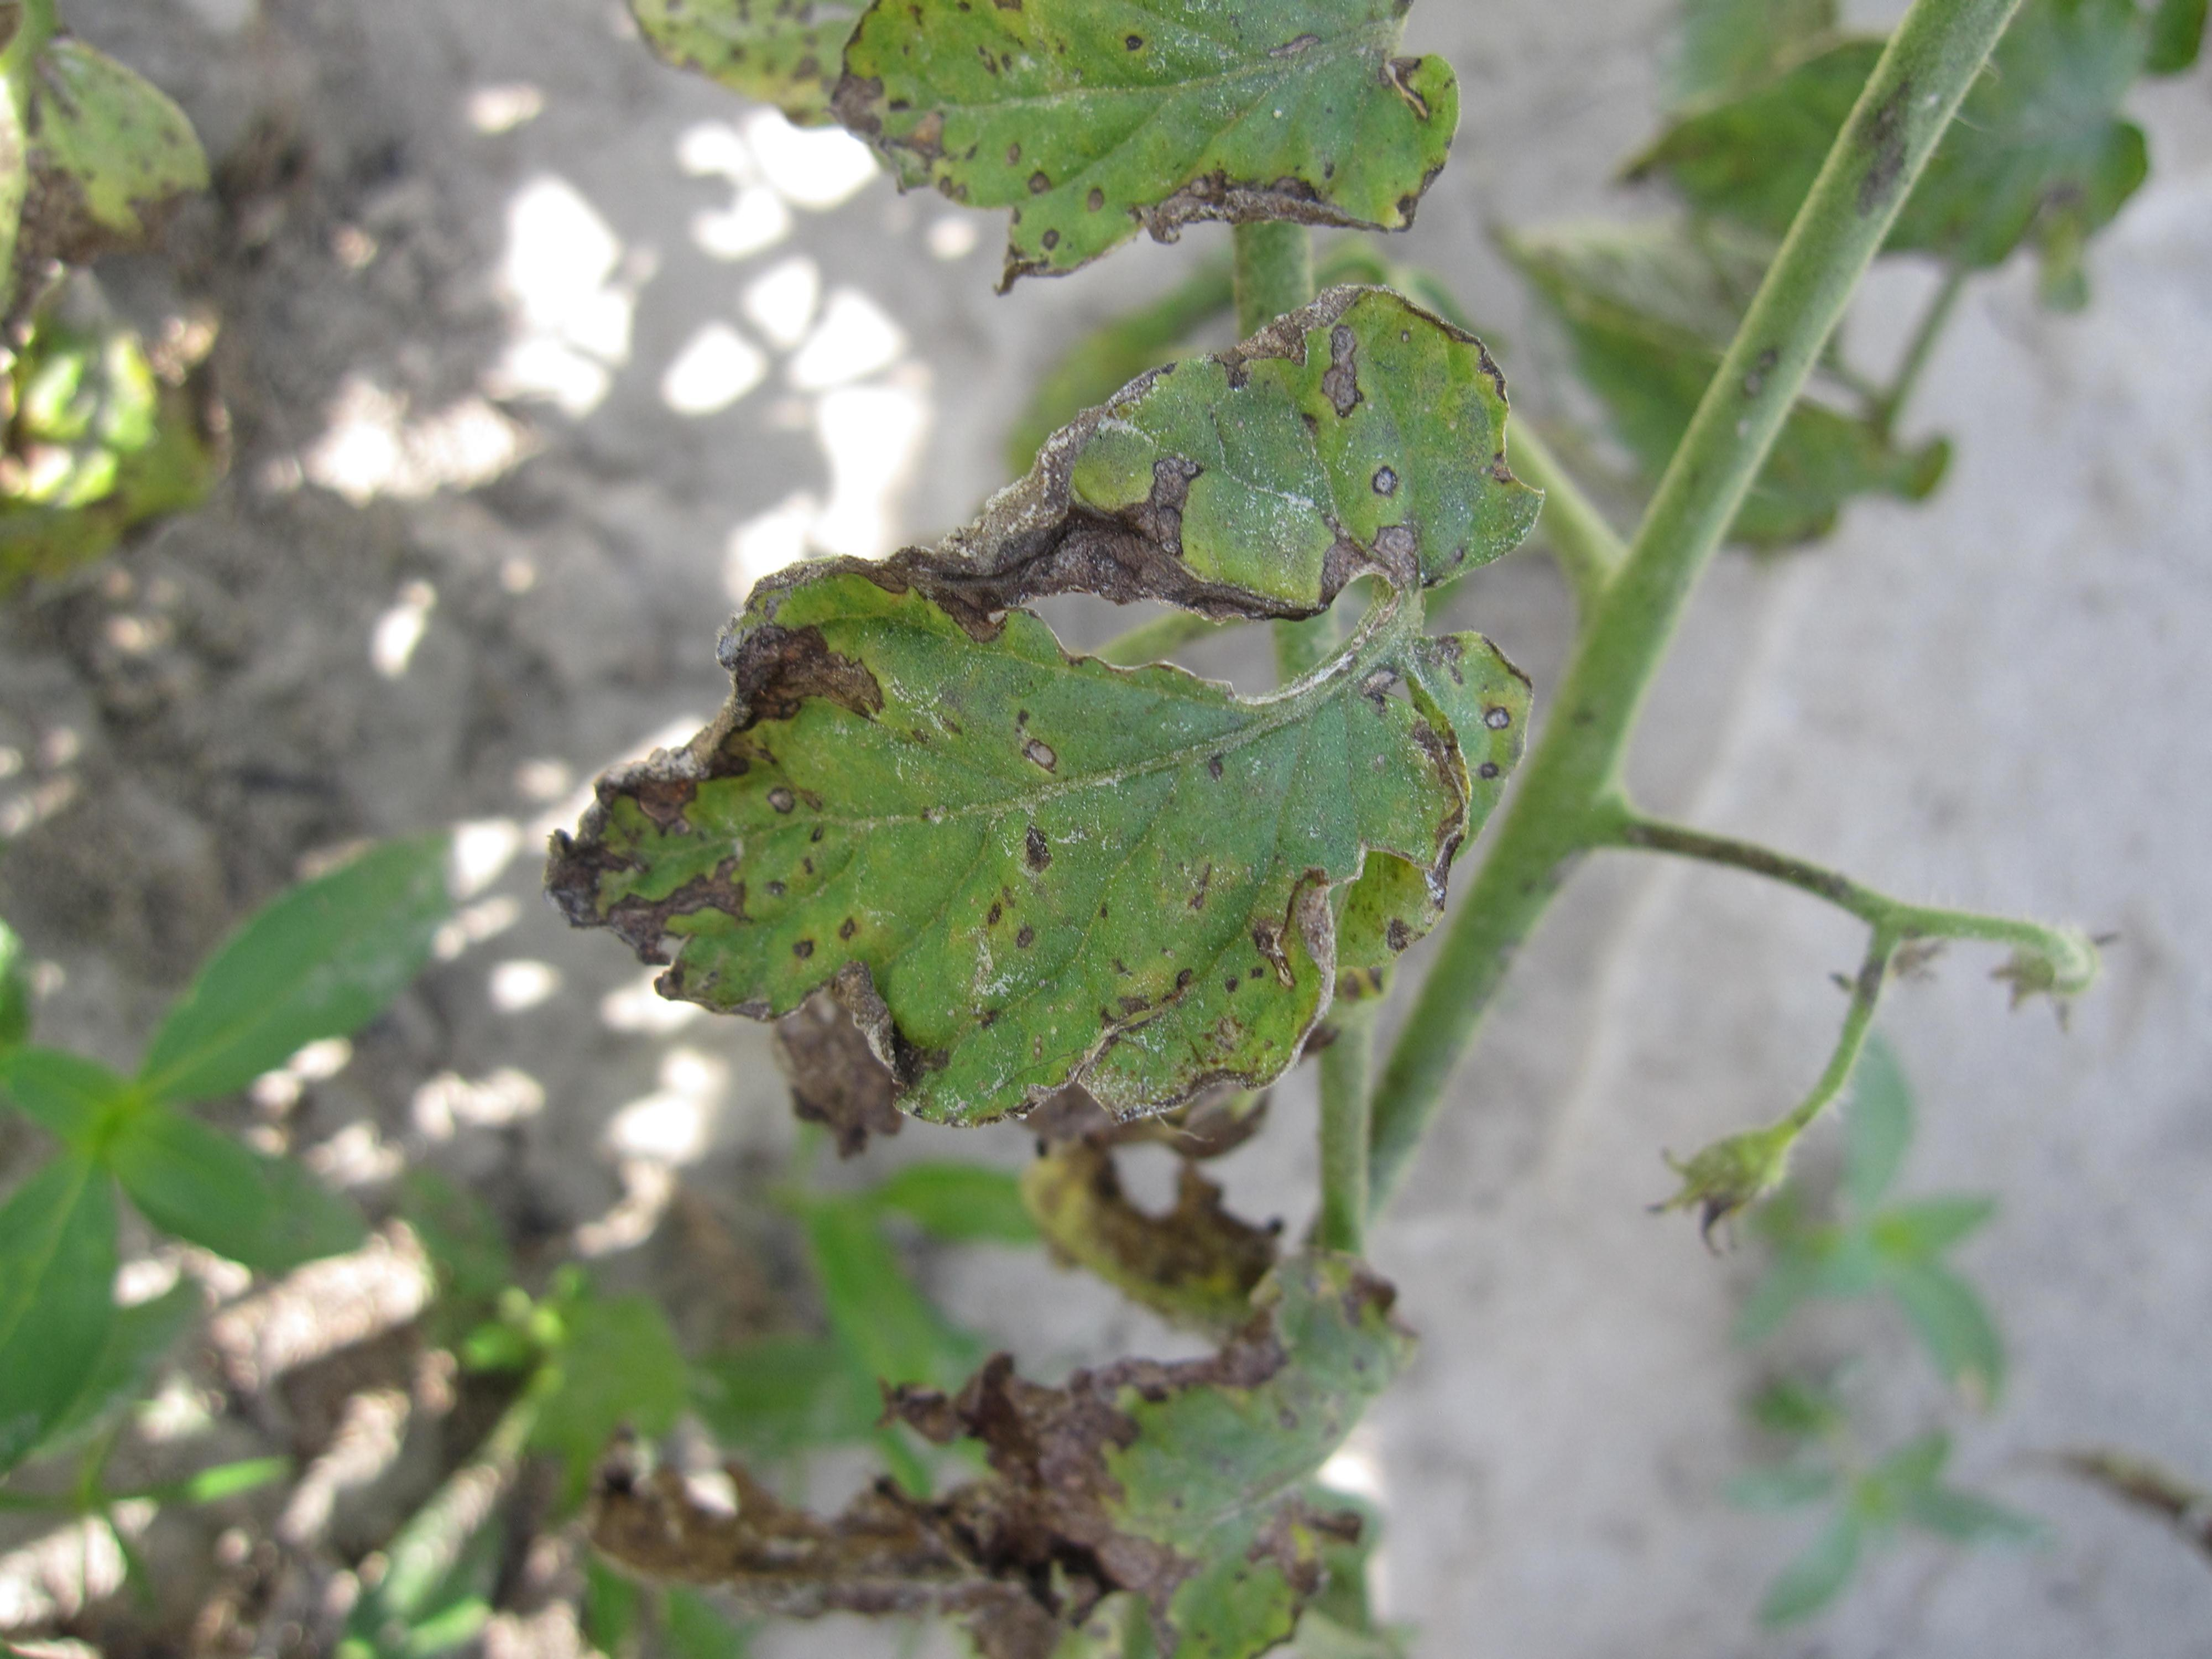Tomato leaf bacterial spot: (568, 283, 1623, 1193)
